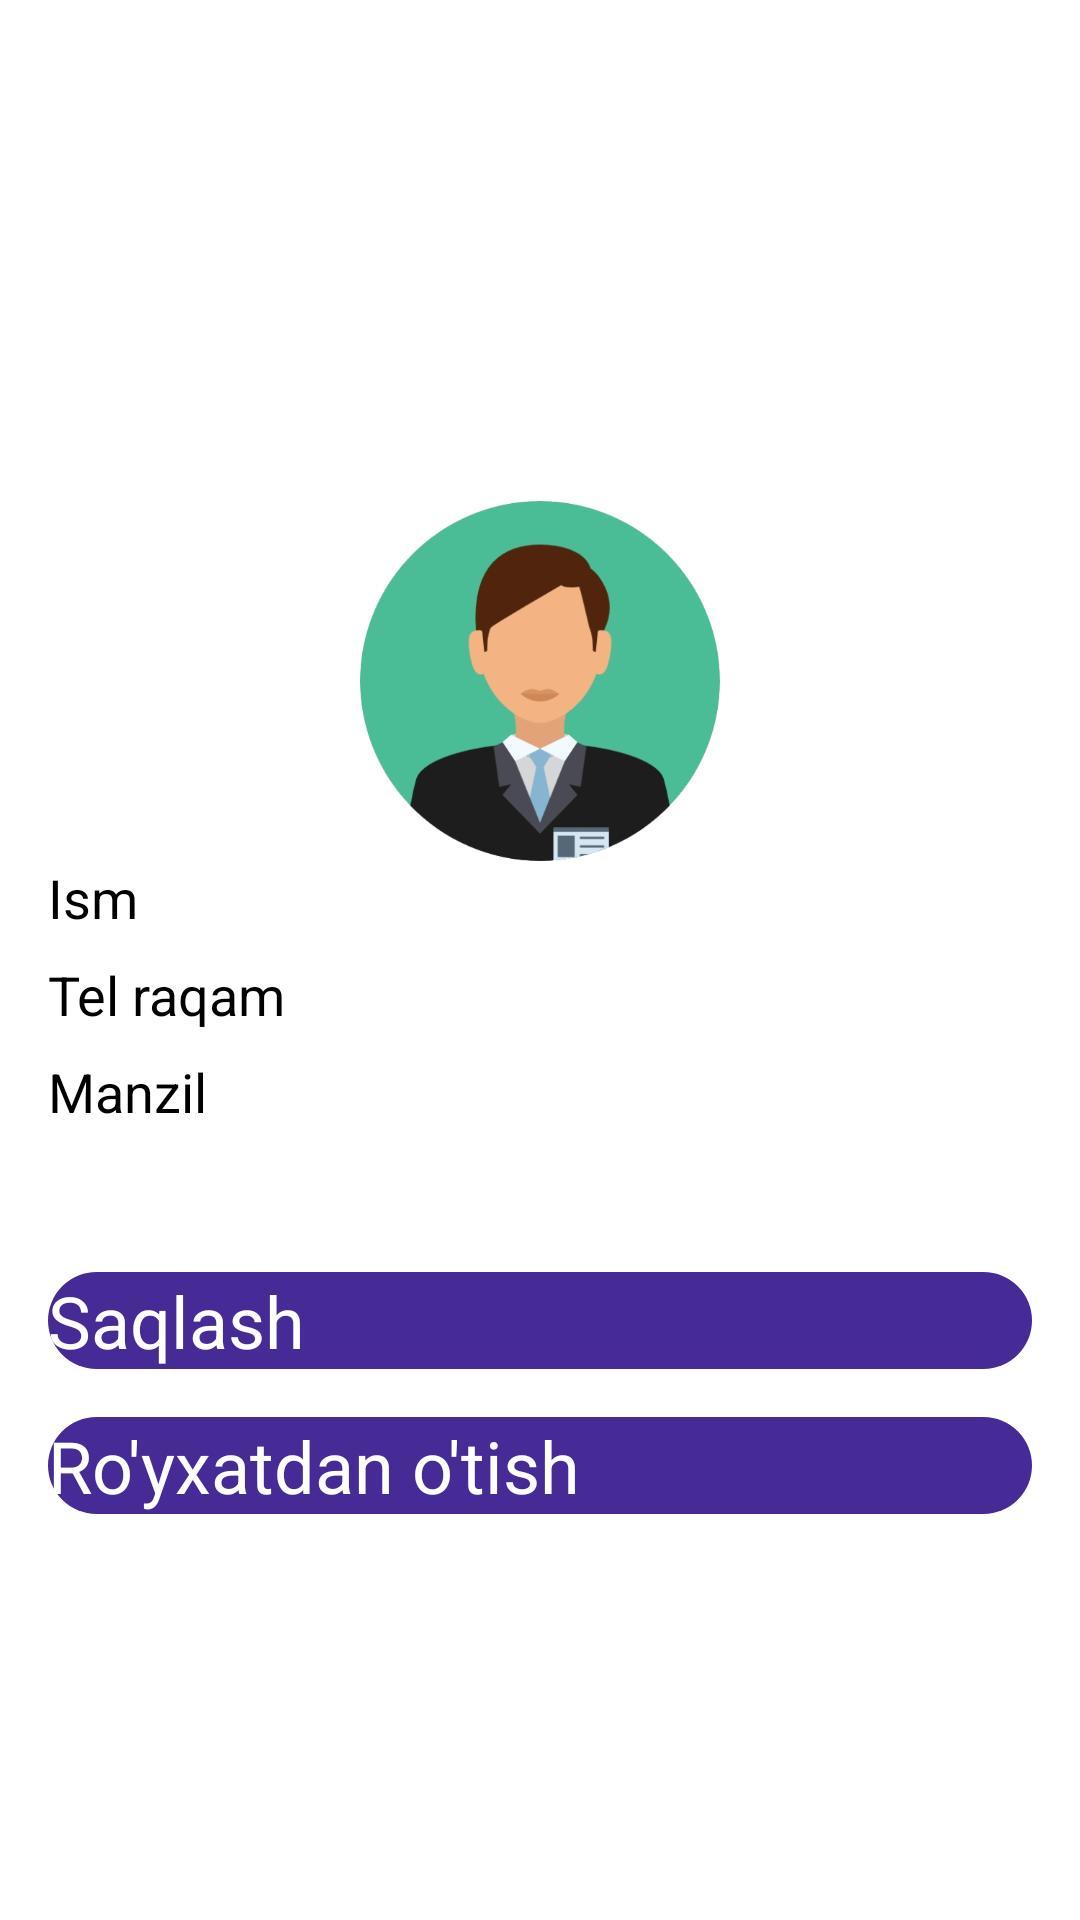

Named icons in this screenshot (1080px x 1920px) and their centers, (x=x, y=y):
Profile Image: (x=540, y=681)
